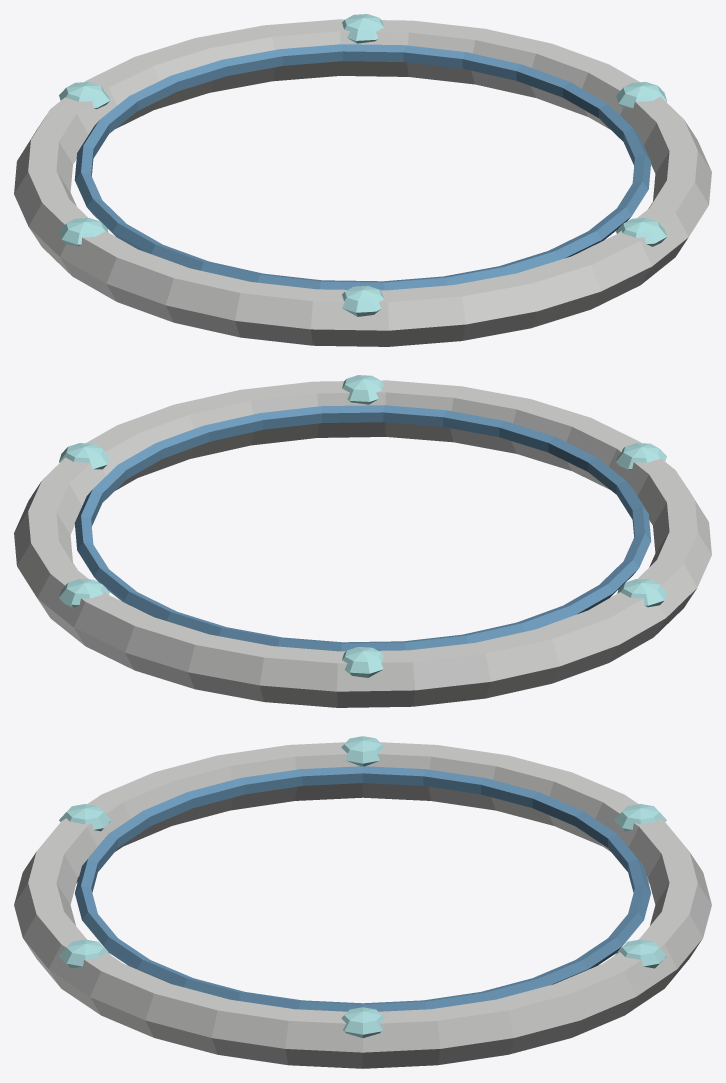
Rendered from anillo_blanco.glb.
3 renders of one model, top to bottom at view 1: azimuth 30°, elevation 25°; view 2: azimuth 150°, elevation 25°; view 3: azimuth 270°, elevation 25°, orthographic.
Visible parts, largest first — view 1: anillo_blanco; view 2: anillo_blanco; view 3: anillo_blanco.
Part boxes in pixels (x1=…): anillo_blanco: x1=14, y1=14, x2=711, y2=346; anillo_blanco: x1=14, y1=375, x2=711, y2=707; anillo_blanco: x1=14, y1=736, x2=711, y2=1068.
Bounding box in the file's own units: 1.85 × 0.15 × 1.85.
